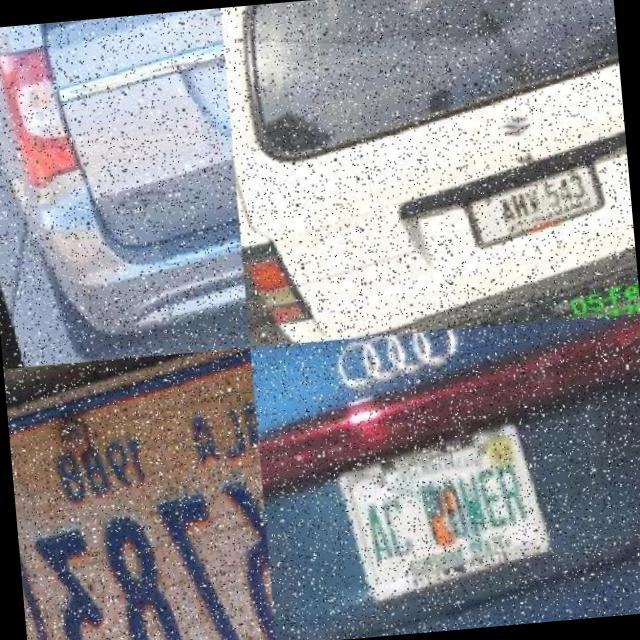LicensePlate: (9, 410, 277, 640), (334, 416, 553, 605), (468, 155, 612, 251)
